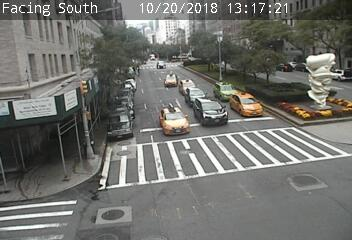car: (194, 97, 227, 126), (159, 108, 189, 136), (230, 93, 263, 116), (185, 87, 208, 107), (214, 82, 238, 101), (178, 79, 197, 95), (164, 74, 178, 87), (157, 61, 166, 69)
